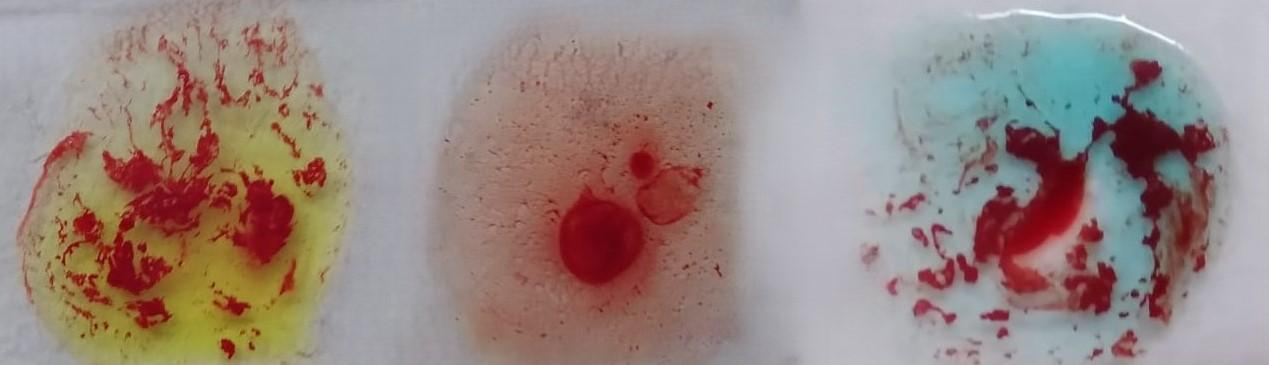A: (886, 12, 1227, 365)
B: (45, 1, 325, 365)
D: (454, 18, 730, 358)
